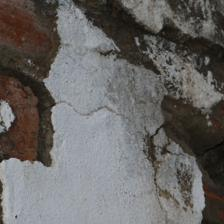Crack: (149, 124, 218, 224), (18, 66, 59, 172), (47, 99, 141, 122)
